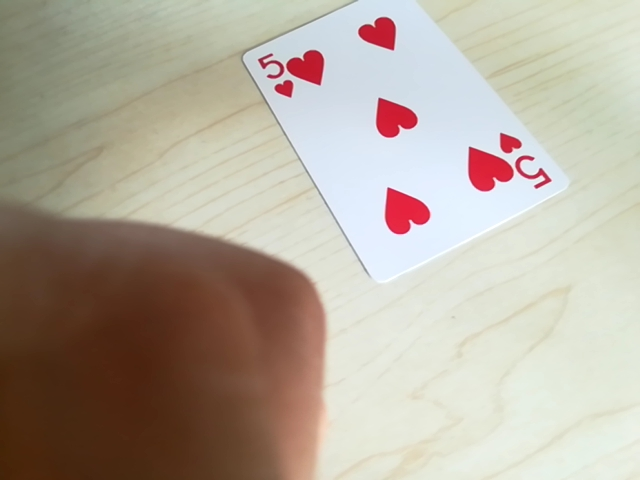hx 5: (495, 131, 552, 193), (250, 45, 306, 101)
